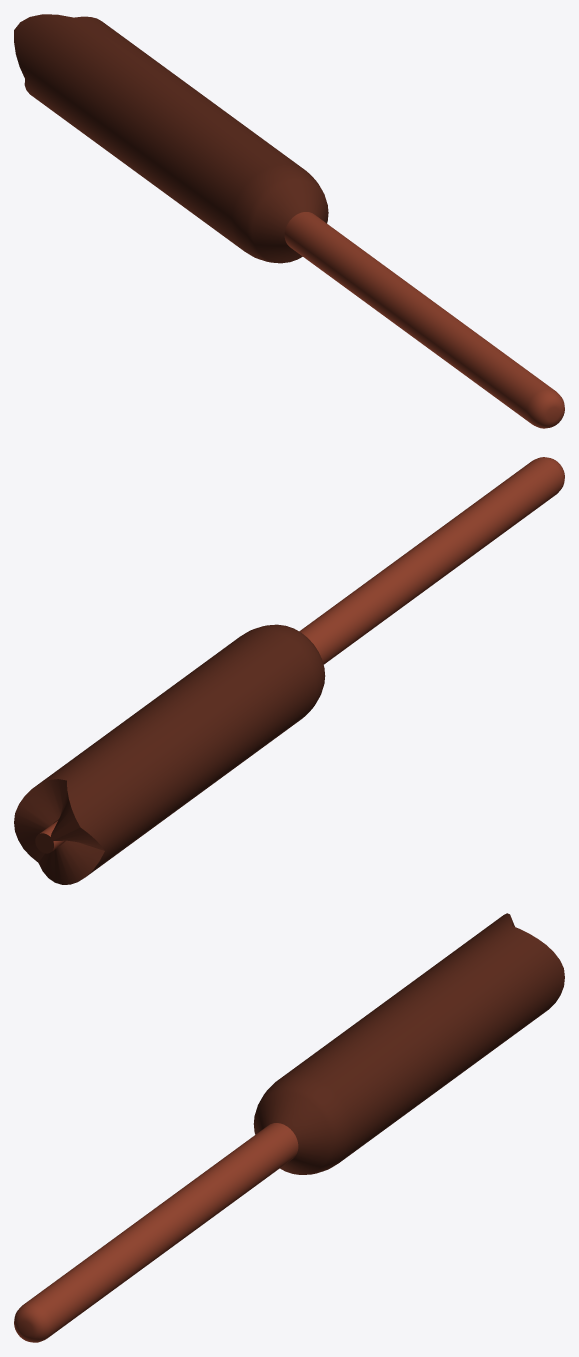
File:  Salgadinho Palitinho Quebrado.fbx
3 views of the same model, one above another, from view 1: azimuth 30°, elevation 25°; view 2: azimuth 150°, elevation 25°; view 3: azimuth 330°, elevation 25° (orthographic).
Parts seen in each view (by area): view 1: Cylinder.001; view 2: Cylinder.001; view 3: Cylinder.001.
Boxes of the visible parts, x1,y1,x2,y2 form: Cylinder.001: [14, 14, 564, 428]; Cylinder.001: [14, 457, 564, 884]; Cylinder.001: [14, 913, 564, 1342].
Bounding box in the file's own units: 16.96 × 16.96 × 168.
